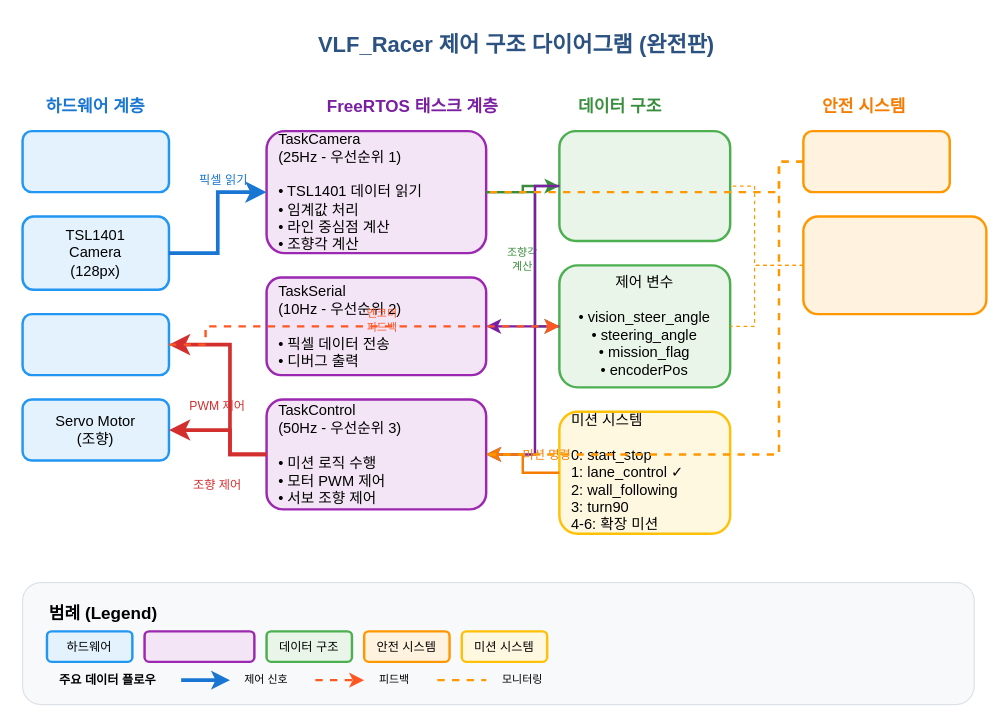
Some shapes in this 1008 by 726 pixel diagram are drawn without their labels. The centre of each missing label's shape, as x and y in pixels:
"Arduino Uno + FreeRTOS" goes at point 95,161.
"DC Motor + Encoder" goes at point 95,344.
"FreeRTOS 태스크" goes at point 199,646.
"Watchdog Timer (2초 타임아웃)" goes at point 876,161.
"세마포어 • xSerialSemaphore • xDataSemaphore • xSteeringSemaphore" goes at point 894,265.
"픽셀 데이터 • Pixel[128] • PixelBuffer[128] • threshold_data[128]" goes at point 644,185.
